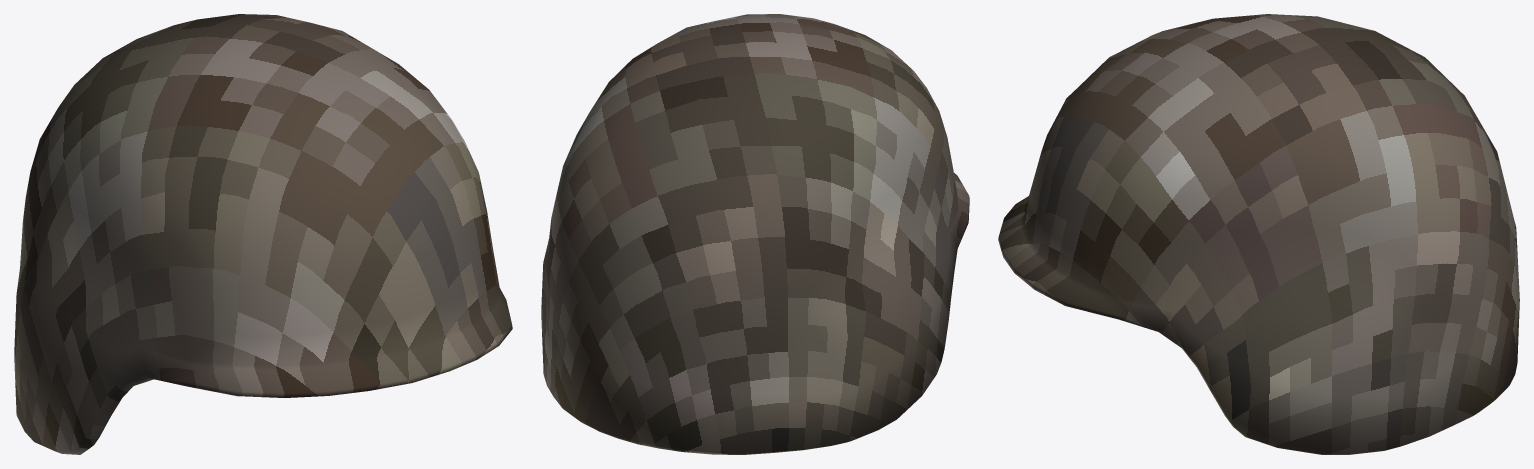
Rendered from SurvivorMale_Head_Helmet_Tactical_LOD0.glb.
3 renders of one model, left to right at view 1: azimuth 30°, elevation 25°; view 2: azimuth 150°, elevation 25°; view 3: azimuth 270°, elevation 25°, orthographic. The views are drawn at different scales.
Visible parts, largest first — view 1: Hoodie; view 2: Hoodie; view 3: Hoodie.
Part boxes in pixels (x1=…): Hoodie: x1=14, y1=14, x2=512, y2=454; Hoodie: x1=541, y1=14, x2=969, y2=454; Hoodie: x1=998, y1=14, x2=1519, y2=454.
Bounding box in the file's own units: 0.2055 × 0.1843 × 0.2573.
Materials: 1 (1 with a texture image).
